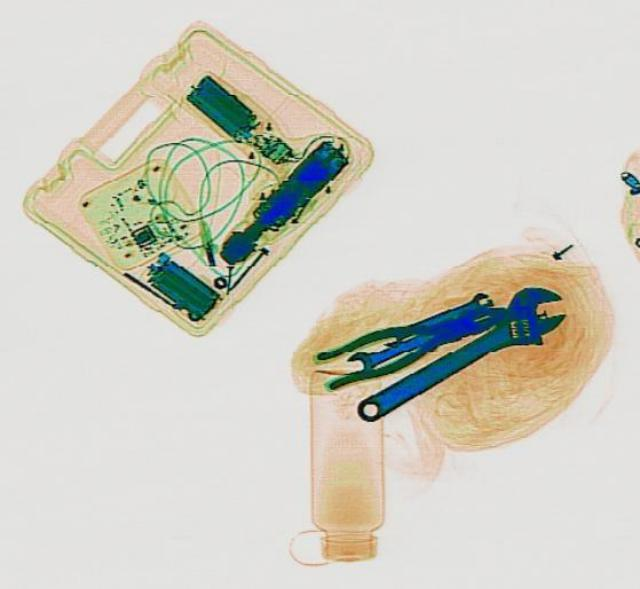Pliers: (309, 288, 513, 391)
Wrench: (340, 273, 578, 440), (378, 286, 492, 349), (342, 324, 436, 373)
